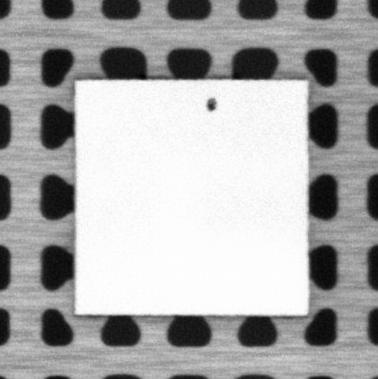DIE_INK: (205, 96, 218, 113)
